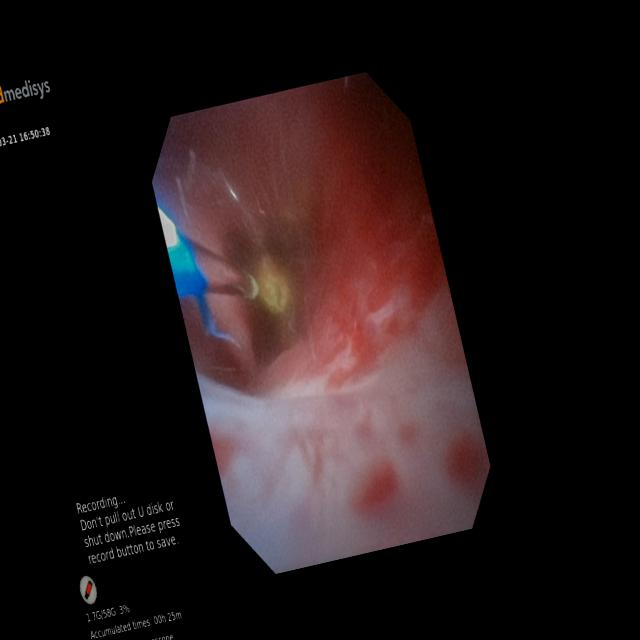laser-fibre: (186, 238, 258, 298)
laser_dot: (263, 284, 279, 301)
stone-new: (232, 231, 302, 362)
